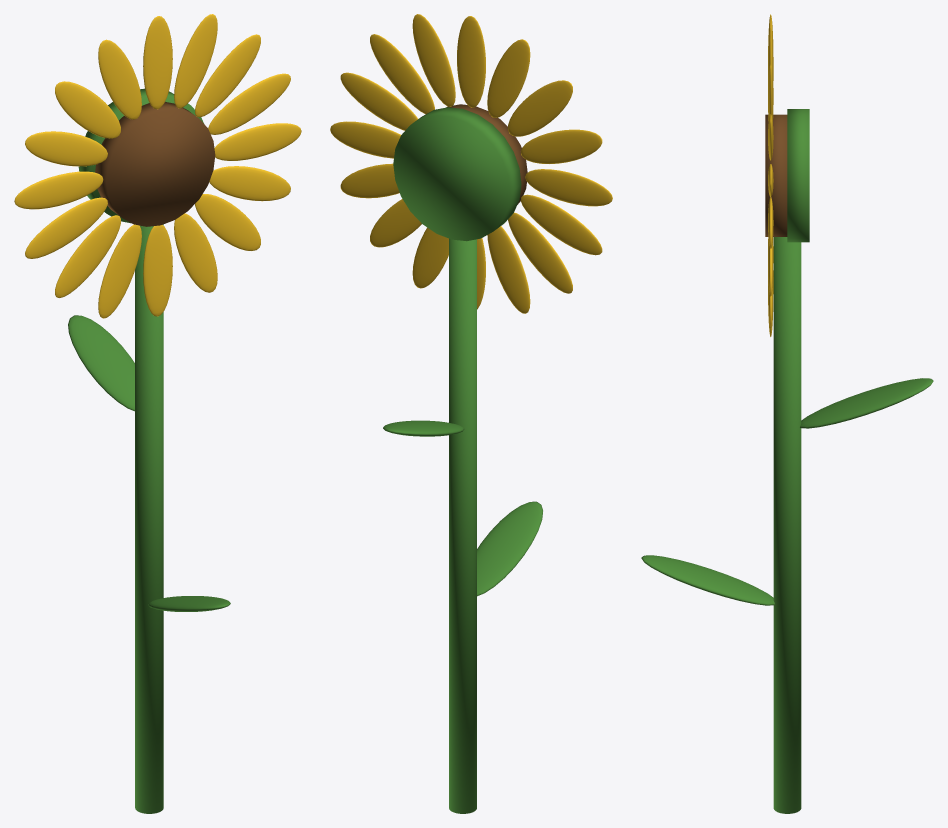
File: SM_Sunflower.fbx
The picture shows the model from 3 angles, left to right: view 1: azimuth 30°, elevation 25°; view 2: azimuth 150°, elevation 25°; view 3: azimuth 270°, elevation 25°; orthographic projection. The views are drawn at different scales.
Parts seen in each view (by area): view 1: Stem, Head_Center, Leaf_1, Petal_7, Petal_4, Petal_1, Petal_3, Petal_0, Petal_15, Petal_14, Petal_5, Petal_6 (+9 smaller); view 2: Stem, Head_Back, Leaf_0, Petal_15, Petal_4, Petal_1, Petal_5, Petal_0, Petal_3, Petal_2, Petal_6, Petal_14 (+9 smaller); view 3: Stem, Head_Back, Leaf_1, Leaf_0, Head_Center.
Part boxes in pixels (x1=…): Stem: x1=135, y1=224, x2=163, y2=813; Head_Center: x1=95, y1=102, x2=215, y2=226; Leaf_1: x1=68, y1=315, x2=134, y2=411; Petal_7: x1=98, y1=224, x2=141, y2=318; Petal_4: x1=14, y1=171, x2=103, y2=209; Petal_1: x1=98, y1=39, x2=141, y2=119; Petal_3: x1=25, y1=131, x2=107, y2=166; Petal_0: x1=143, y1=16, x2=172, y2=109; Petal_15: x1=174, y1=14, x2=217, y2=108; Petal_14: x1=195, y1=34, x2=260, y2=117; Petal_5: x1=25, y1=197, x2=107, y2=258; Petal_6: x1=55, y1=215, x2=120, y2=297; Stem: x1=449, y1=238, x2=476, y2=813; Head_Back: x1=393, y1=107, x2=521, y2=241; Leaf_0: x1=477, y1=501, x2=542, y2=596; Petal_15: x1=412, y1=14, x2=455, y2=106; Petal_4: x1=525, y1=169, x2=612, y2=206; Petal_1: x1=487, y1=39, x2=530, y2=117; Petal_5: x1=520, y1=194, x2=602, y2=255; Petal_0: x1=457, y1=16, x2=485, y2=107; Petal_3: x1=520, y1=129, x2=602, y2=163; Petal_2: x1=508, y1=80, x2=572, y2=136; Petal_6: x1=508, y1=212, x2=572, y2=293; Petal_14: x1=370, y1=34, x2=434, y2=114; Stem: x1=773, y1=237, x2=801, y2=813; Head_Back: x1=787, y1=109, x2=809, y2=242; Leaf_1: x1=800, y1=378, x2=933, y2=428; Leaf_0: x1=641, y1=555, x2=774, y2=605; Head_Center: x1=765, y1=114, x2=787, y2=236.
Size of the model in its own units: 0.58 by 1.54 by 0.5243.
